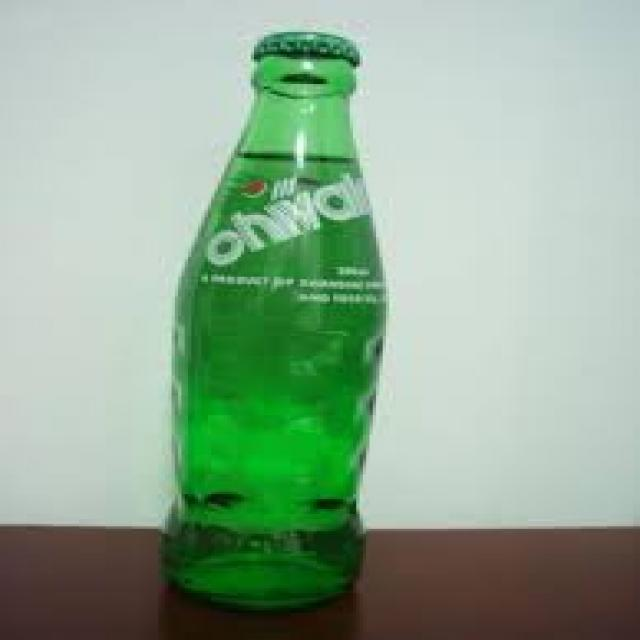Glass-Non-Biodegradable but Recyclable-: (154, 30, 391, 613)
